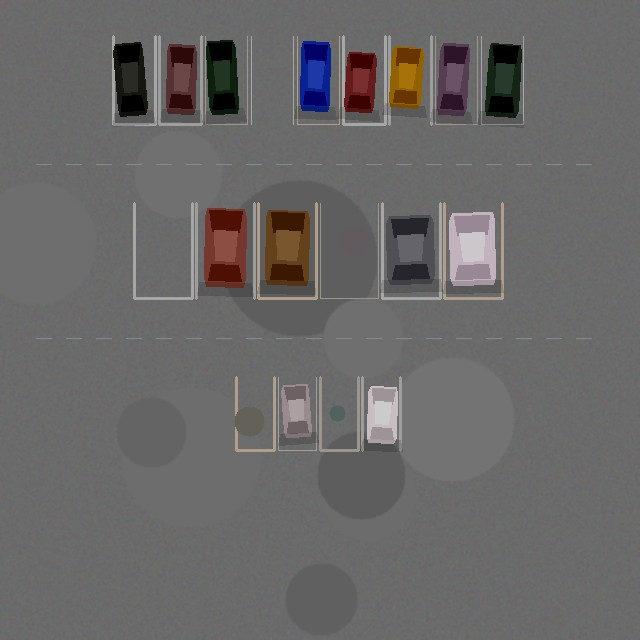space-empty: (134, 203, 192, 298), (320, 203, 378, 298), (251, 36, 293, 124), (236, 377, 274, 450), (320, 377, 358, 450)
space-occupied: (196, 203, 254, 298), (258, 203, 316, 298), (382, 203, 440, 298), (444, 203, 502, 298), (113, 36, 155, 124), (159, 36, 201, 124), (205, 36, 247, 124), (297, 36, 339, 124), (343, 36, 385, 124), (389, 36, 431, 124), (435, 36, 477, 124), (481, 36, 523, 124), (278, 377, 316, 450), (362, 377, 400, 450)
